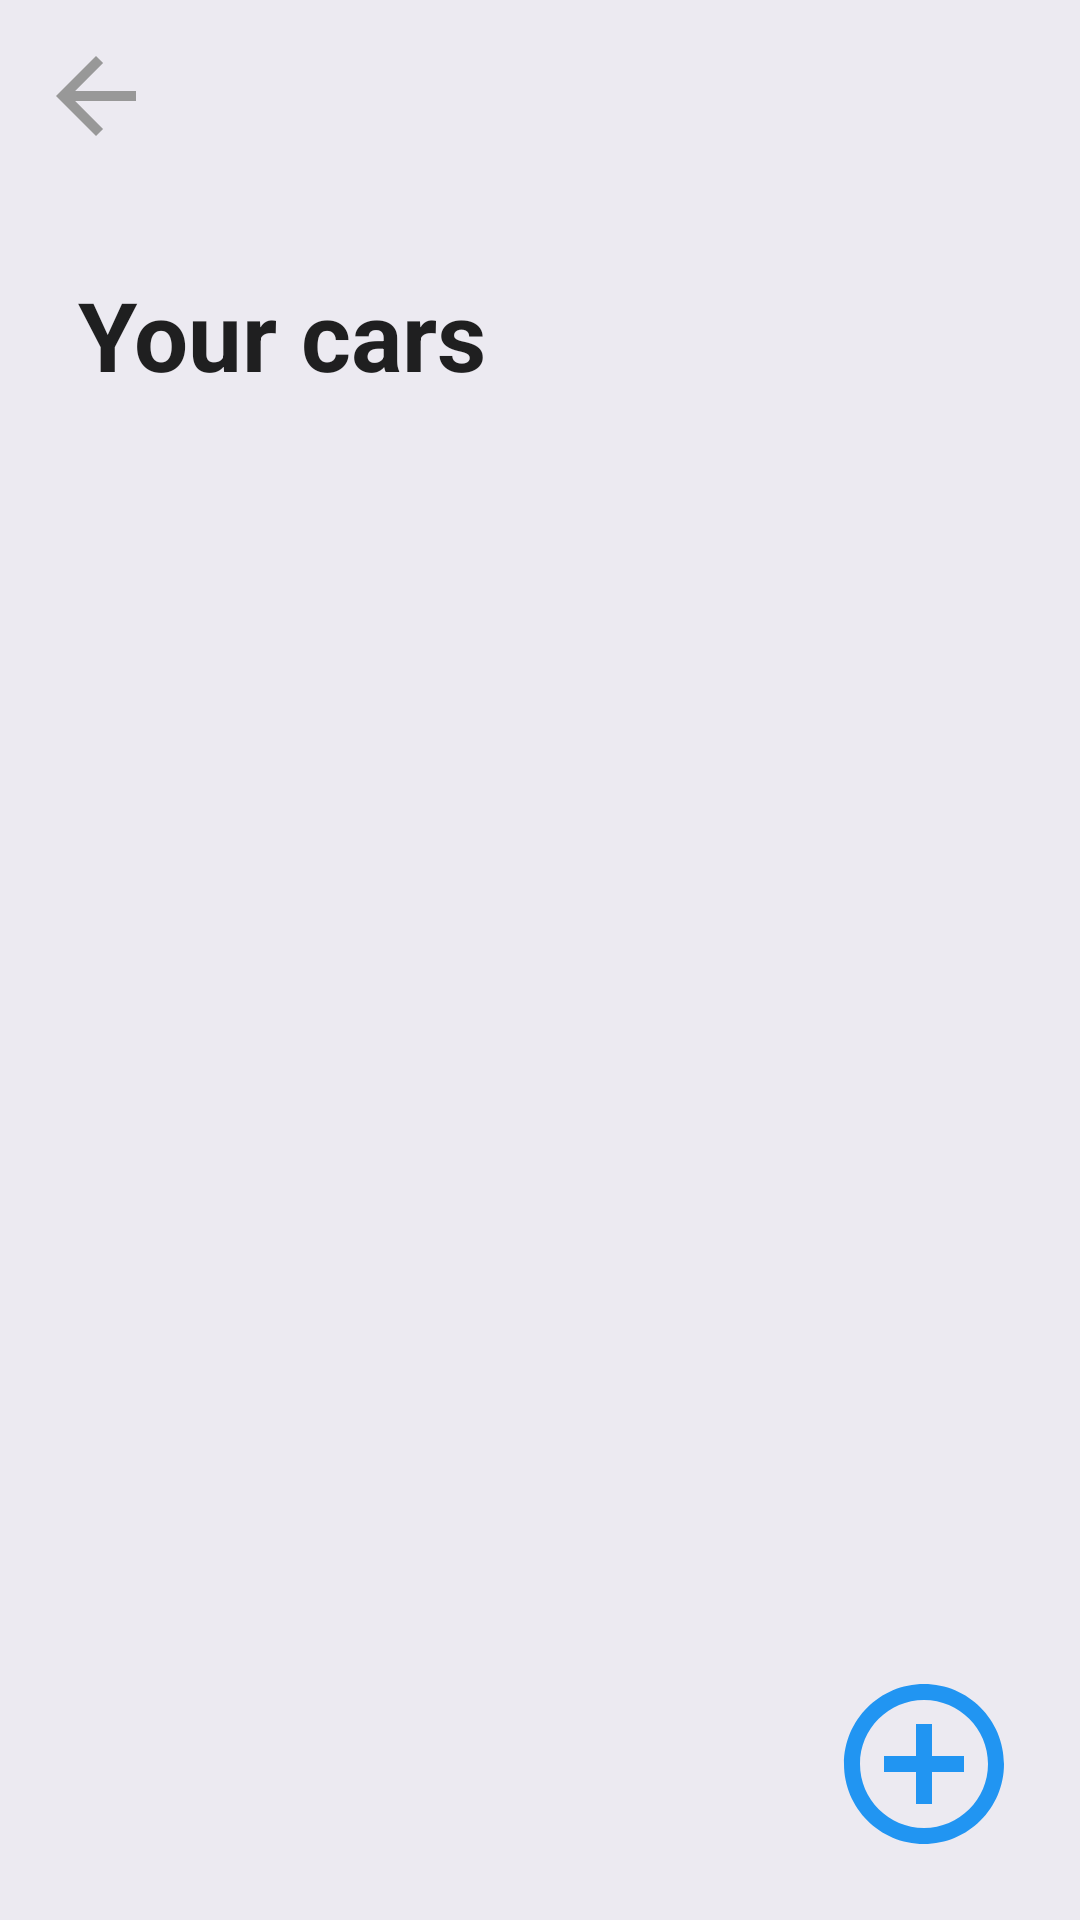

Icons on this 1080x1920 Android screen, each with its box as bbox=[x1, y1, x2, y2]:
add: bbox=[844, 1684, 1004, 1844]
arrow back: bbox=[56, 56, 136, 136]
